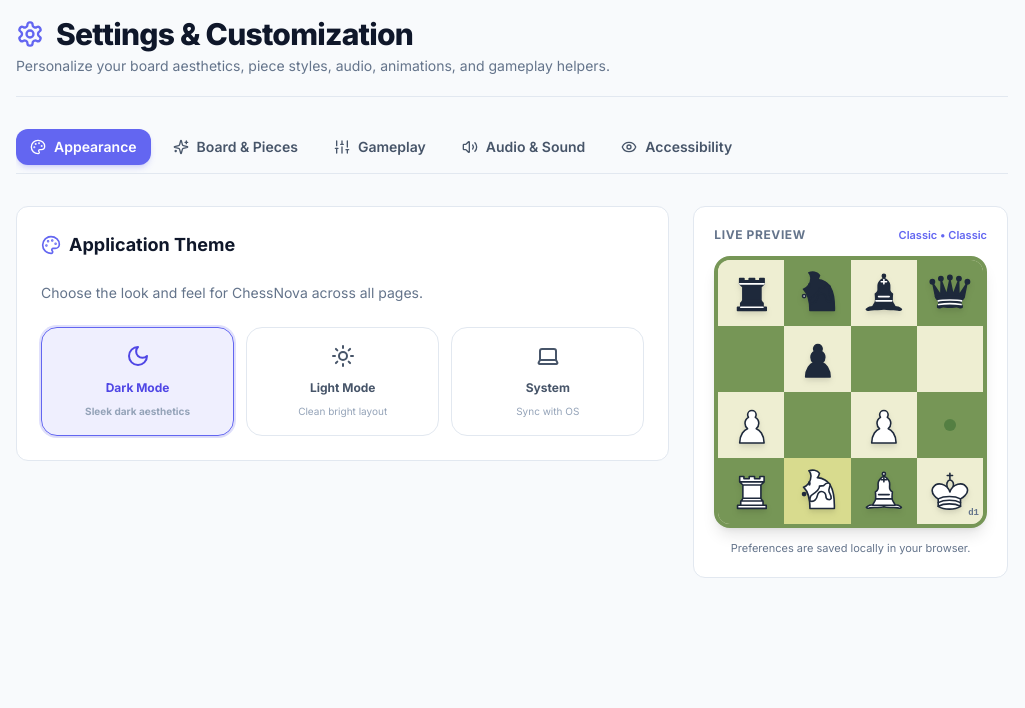
it: ChessNova Phase 9 — Mobile Optimization & Advanced Settings Suite › Settings Page UI & Category Tabs › renders settings navigation tabs and allows switching between sections
The width and height of the screenshot is (1025, 708).
Check: the text "Settings & Customization" is shown, box [56,16,413,52]
Check: the button "Appearance" is shown, box [16,129,151,165]
Switch to Board & Pieces
Click the button "Board & Pieces" at {"x": 235, "y": 147}, box [159,129,312,165]
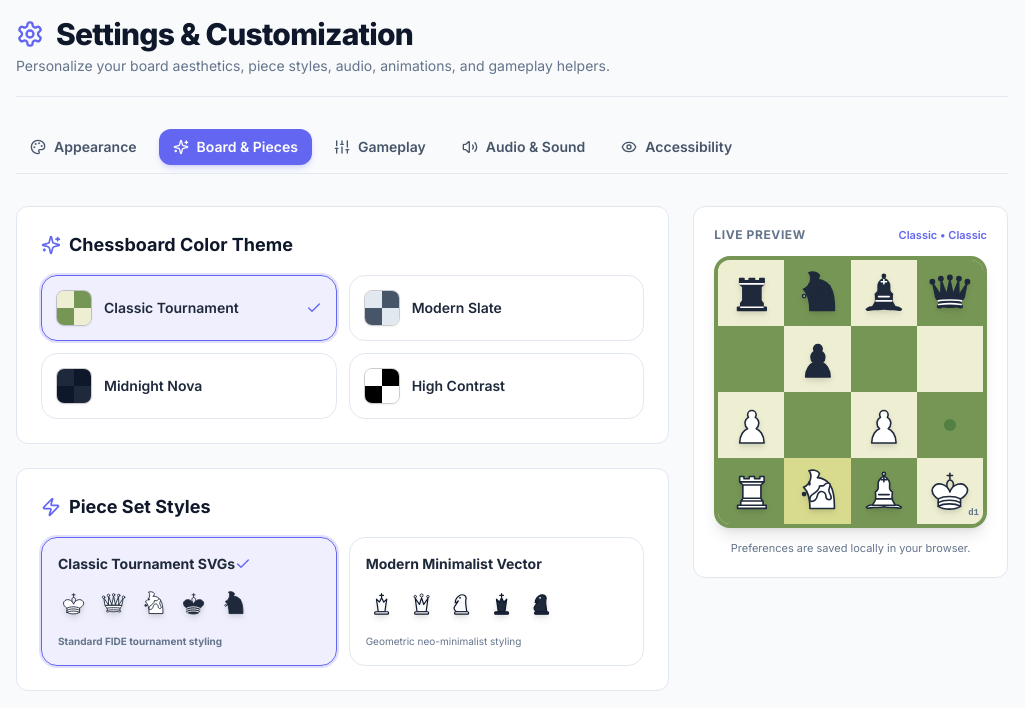
Check: the text "Chessboard Color Theme" is shown, box [69,231,293,259]
Check: the text "Piece Set Styles" is shown, box [69,493,210,521]
Switch to Gameplay
Click the button "Gameplay" at {"x": 380, "y": 147}, box [320,129,440,165]
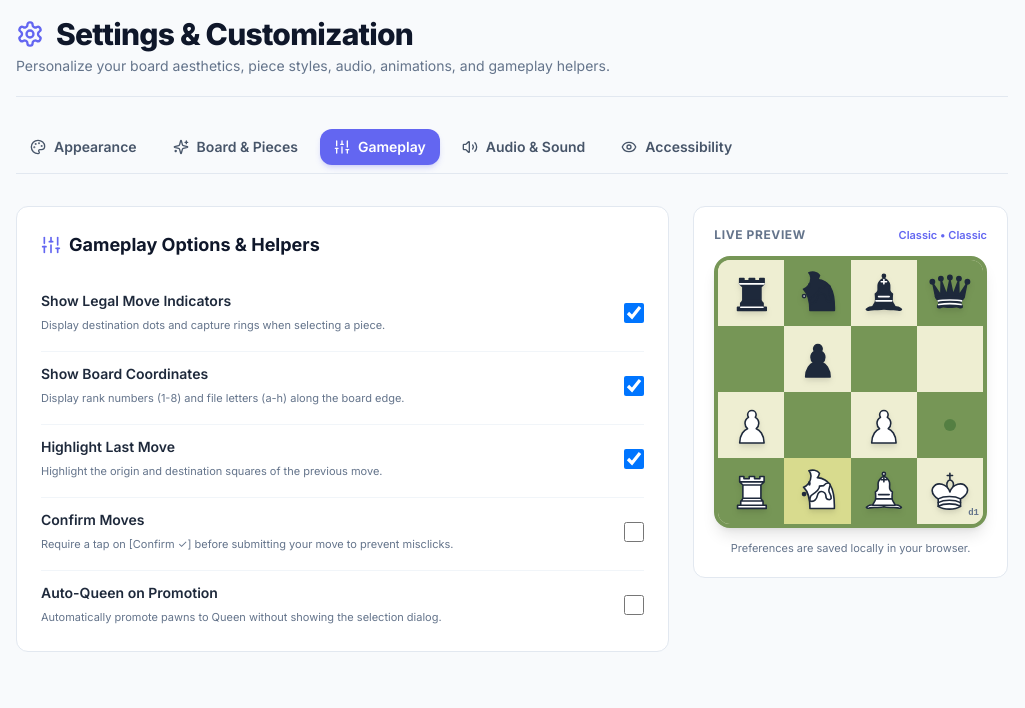
Check: the text "Show Legal Move Indicators" is shown, box [41,292,231,309]
Check: the text "Confirm Moves" is shown, box [41,511,144,528]
Check: the text "Auto-Queen on Promotion" is shown, box [41,584,218,601]
Switch to Audio & Sound
Click the button "Audio & Sound" at {"x": 524, "y": 147}, box [448,129,599,165]
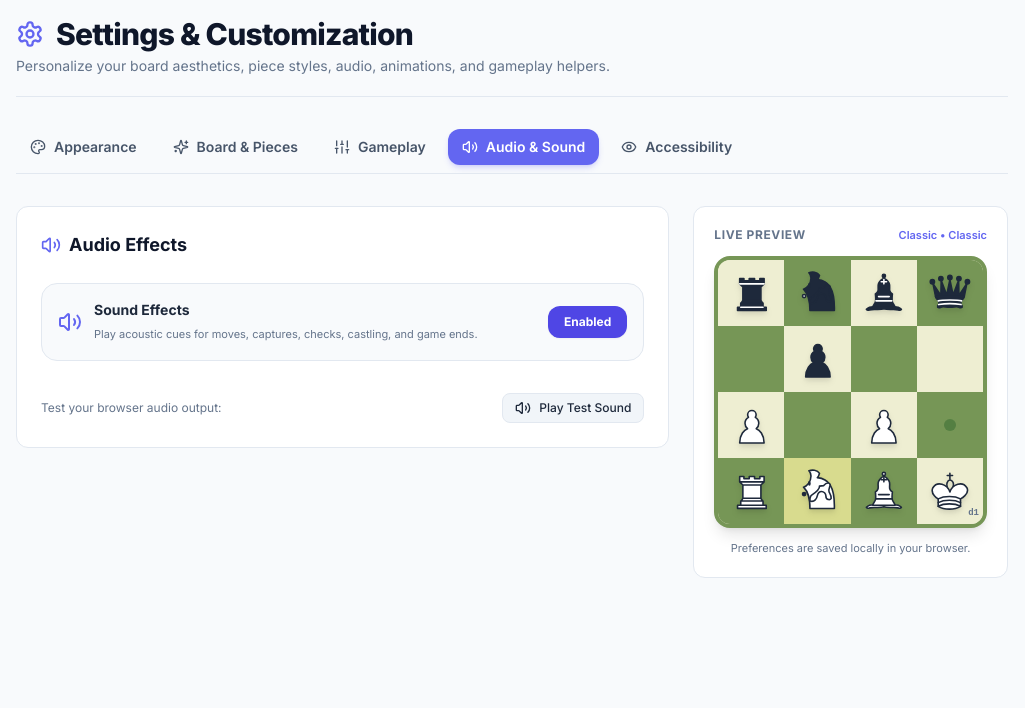
Check: the text "Audio Effects" is shown, box [69,231,187,259]
Check: the button "Play Test Sound" is shown, box [502,393,644,423]
Switch to Accessibility
Click the button "Accessibility" at {"x": 677, "y": 147}, box [607,129,746,165]
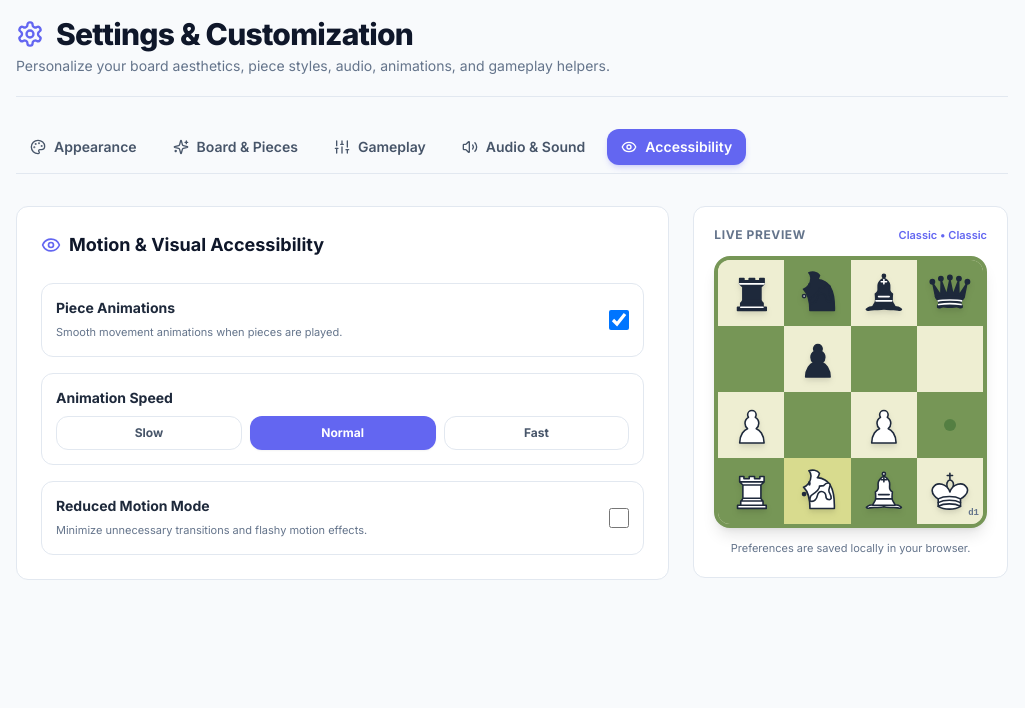
Check: the text "Reduced Motion Mode" is shown, box [56,497,210,514]
Check: the text "Animation Speed" is shown, box [56,389,173,406]
